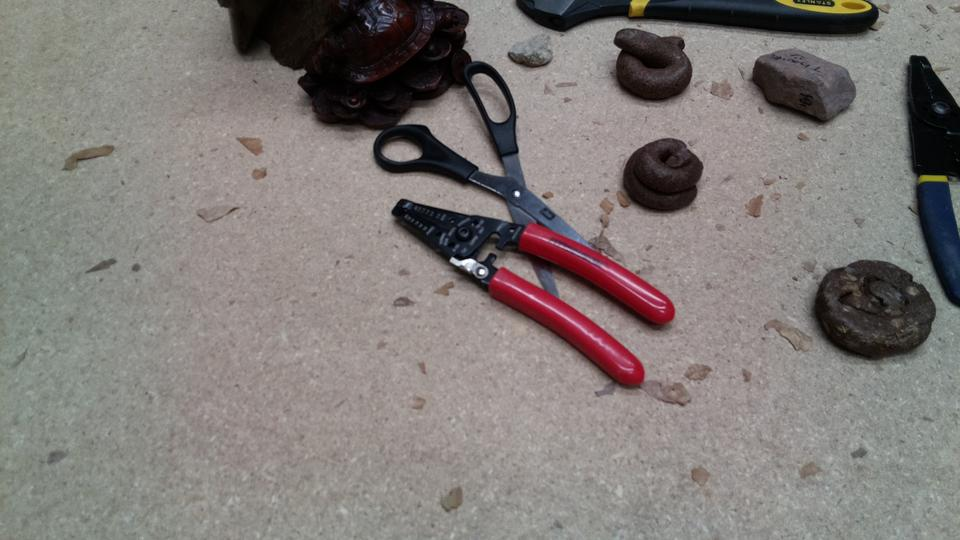poop: (809, 253, 942, 363), (620, 135, 709, 217), (611, 25, 696, 105)
